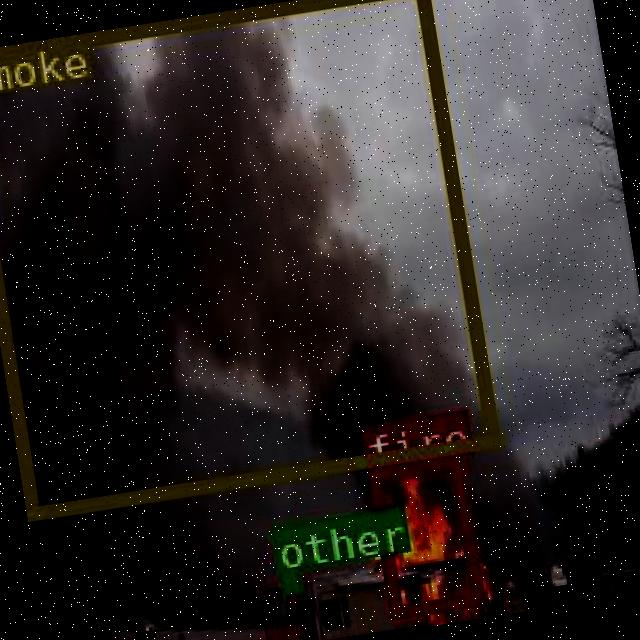fire: (366, 456, 482, 618)
smoke: (0, 0, 499, 519)
